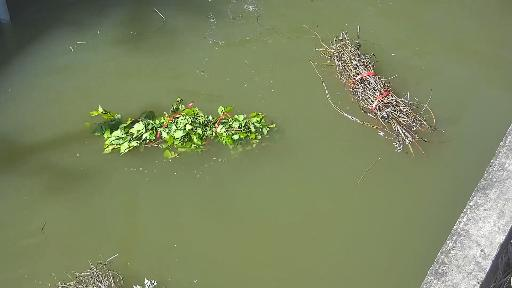twig: (316, 15, 440, 168), (69, 97, 291, 165), (59, 255, 190, 288)
